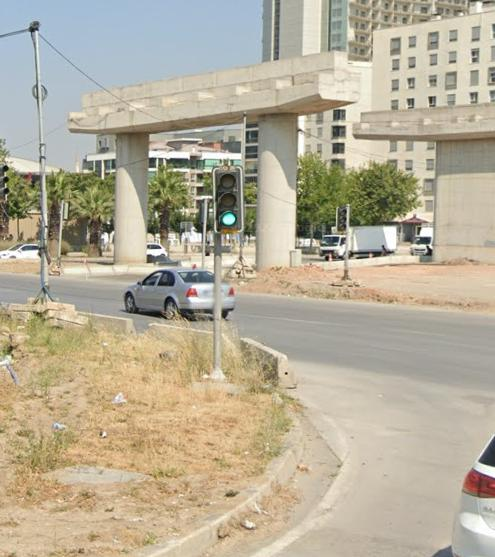greenlight: (211, 163, 252, 237)
